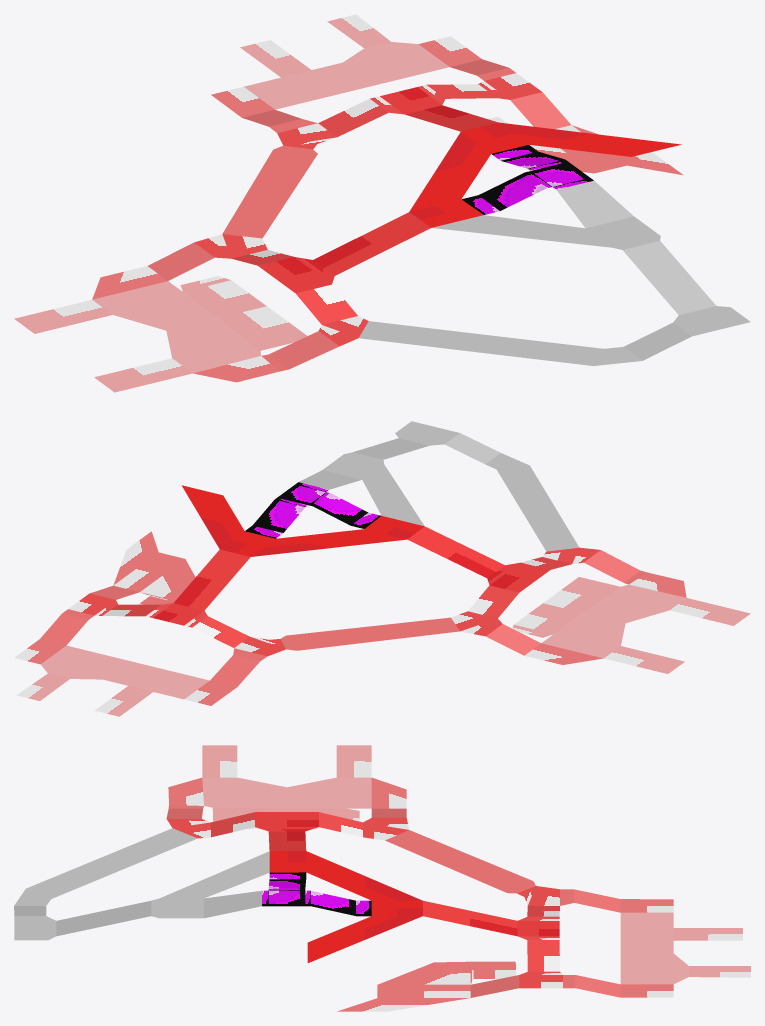
File: Navi_1.FBX
The picture shows the model from 3 angles, top to bottom: view 1: azimuth 30°, elevation 25°; view 2: azimuth 150°, elevation 25°; view 3: azimuth 270°, elevation 25°; orthographic projection. The views are drawn at different scales.
Parts seen in each view (by area): view 1: Plane001; view 2: Plane001; view 3: Plane001.
Boxes of the visible parts, x1,y1,x2,y2 form: Plane001: (14, 14, 750, 392); Plane001: (14, 421, 750, 716); Plane001: (14, 745, 750, 1011).
Size of the model in its own units: 7215 by 639 by 8435.
